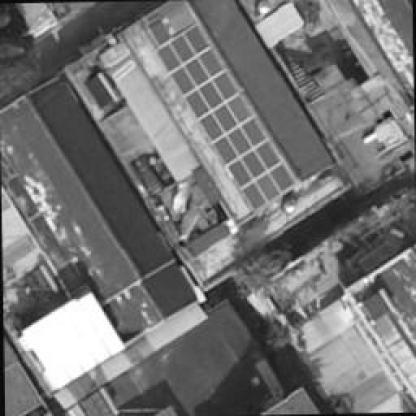solar-pv-panel: (144, 17, 296, 211)
